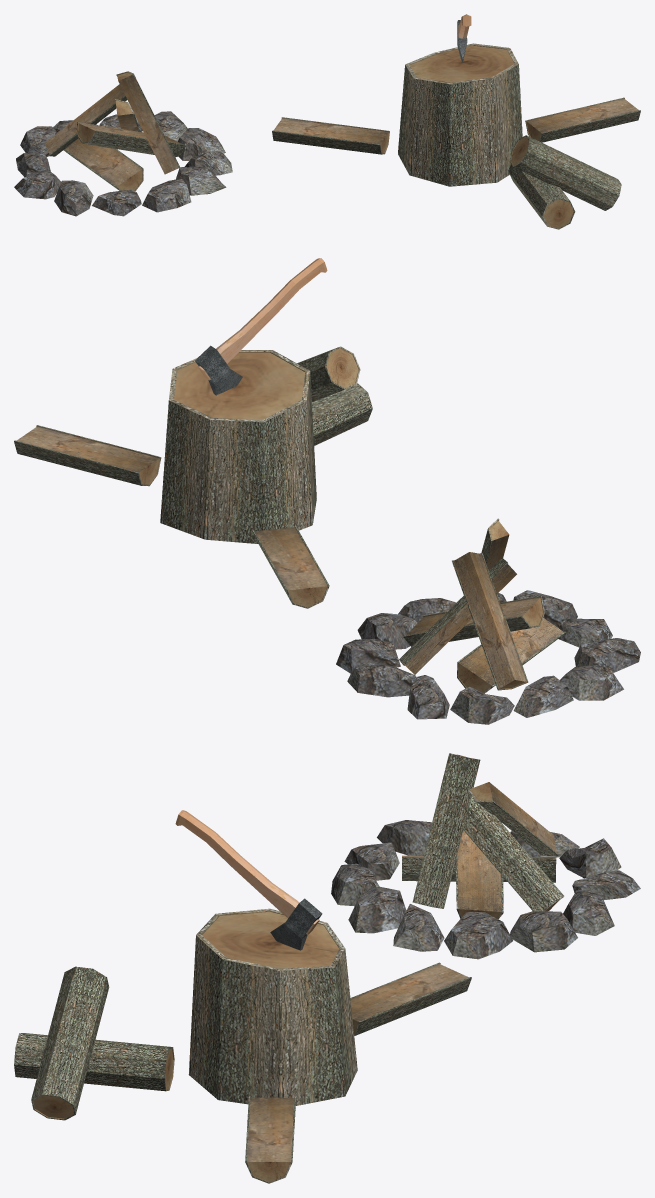
Rendered from forest_loner_-_3_simple_props.glb.
The picture shows the model from 3 angles, top to bottom: view 1: azimuth 30°, elevation 25°; view 2: azimuth 150°, elevation 25°; view 3: azimuth 270°, elevation 25°; orthographic projection. The views are drawn at different scales.
Visible parts, largest first — view 1: Stump, CampfireRing, Firewood.002, Firewood_Half.002, Firewood_Half.004, Firewood_Half.001, Firewood.001, Firewood_Quarter.002, Firewood_Half.003, Firewood_Quarter.001, Firewood_Quarter.003, Axe; view 2: Stump, CampfireRing, Firewood_Half.004, Firewood_Quarter.001, Firewood_Half.002, Axe, Firewood_Quarter.003, Firewood_Half.001, Firewood.001, Firewood.002, Firewood_Half.003, Firewood_Quarter.002; view 3: Stump, CampfireRing, Firewood.002, Firewood.001, Firewood_Quarter.002, Firewood_Half.002, Firewood_Quarter.003, Firewood_Half.004, Axe, Firewood_Half.003, Firewood_Quarter.001, Firewood_Half.001.
Part boxes in pixels (x1,y1,x2,y2): Stump: (398,43,522,186); CampfireRing: (14,111,232,216); Firewood.002: (509,135,621,210); Firewood_Half.002: (272,117,389,154); Firewood_Half.004: (525,97,640,142); Firewood_Half.001: (63,138,143,191); Firewood.001: (508,164,575,229); Firewood_Quarter.002: (116,71,179,174); Firewood_Half.003: (77,122,186,157); Firewood_Quarter.001: (44,84,127,156); Firewood_Quarter.003: (115,99,139,131); Axe: (457,14,471,62); Stump: (160,350,316,543); CampfireRing: (336,590,640,724); Firewood_Half.004: (14,425,161,486); Firewood_Quarter.001: (452,552,528,690); Firewood_Half.002: (252,526,329,608); Axe: (195,258,327,395); Firewood_Quarter.003: (399,558,516,674); Firewood_Half.001: (457,618,565,693); Firewood.001: (312,383,372,445); Firewood.002: (297,346,360,402); Firewood_Half.003: (403,596,544,646); Firewood_Quarter.002: (481,518,509,570); Stump: (188,908,357,1105); CampfireRing: (331,820,640,959); Firewood.002: (31,966,109,1120); Firewood.001: (14,1033,174,1091); Firewood_Quarter.002: (412,753,480,908); Firewood_Half.002: (350,962,471,1035); Firewood_Quarter.003: (463,795,564,911); Firewood_Half.004: (245,1096,296,1183); Axe: (175,810,322,950); Firewood_Half.003: (455,822,503,919); Firewood_Quarter.001: (467,782,558,855); Firewood_Half.001: (402,855,556,882).
Size of the model in its own units: 3.57 by 1.16 by 2.64.
Materials: 6 (6 with a texture image).
